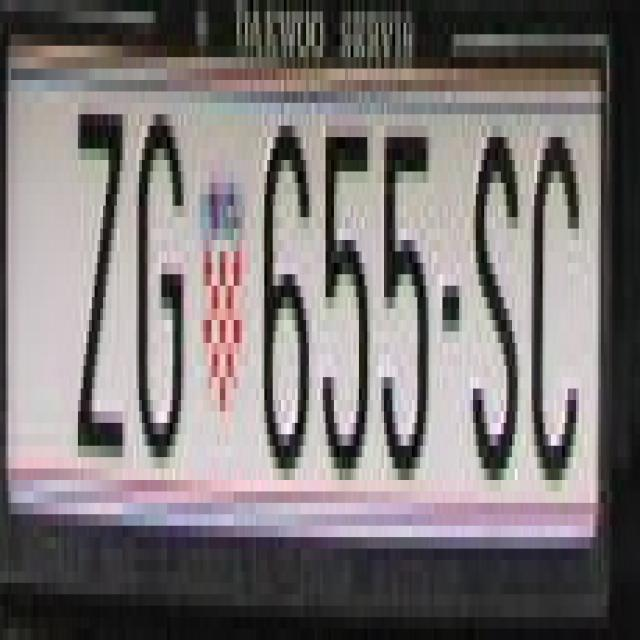5: (382, 137, 432, 480), (318, 137, 368, 480)
6: (258, 137, 314, 457)
C: (526, 103, 579, 480)
G: (139, 114, 192, 457)
S: (468, 126, 520, 480)
Z: (81, 114, 125, 434)
